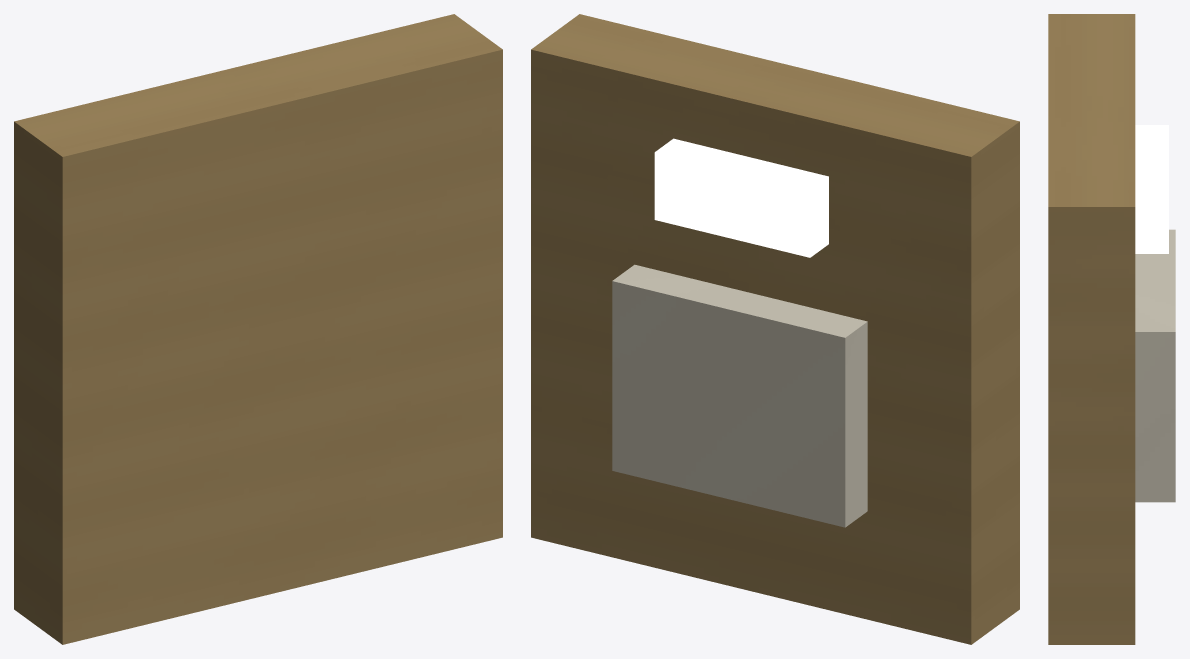
Rendered from D04_PORT_FORWARD_GARDEN_SERVICE_CONTROL_r001.glb.
3 views of the same model, side by side, from view 1: azimuth 30°, elevation 25°; view 2: azimuth 150°, elevation 25°; view 3: azimuth 270°, elevation 25° (orthographic). The views are drawn at different scales.
Parts seen in each view (by area): view 1: D04HS_ControlPlate; view 2: D04HS_ControlPlate, D04HS_ControlButton, D04HS_ControlIndicator; view 3: D04HS_ControlPlate, D04HS_ControlButton, D04HS_ControlIndicator.
Boxes of the visible parts, x1=… form: D04HS_ControlPlate: x1=14, y1=14, x2=502, y2=644; D04HS_ControlPlate: x1=531, y1=14, x2=1019, y2=644; D04HS_ControlButton: x1=612, y1=264, x2=867, y2=527; D04HS_ControlIndicator: x1=654, y1=138, x2=828, y2=257; D04HS_ControlPlate: x1=1048, y1=14, x2=1135, y2=644; D04HS_ControlButton: x1=1135, y1=229, x2=1175, y2=502; D04HS_ControlIndicator: x1=1135, y1=125, x2=1168, y2=253.
Size of the model in its own units: 0.34 by 0.36 by 0.095.
3 materials, 2 textured.
